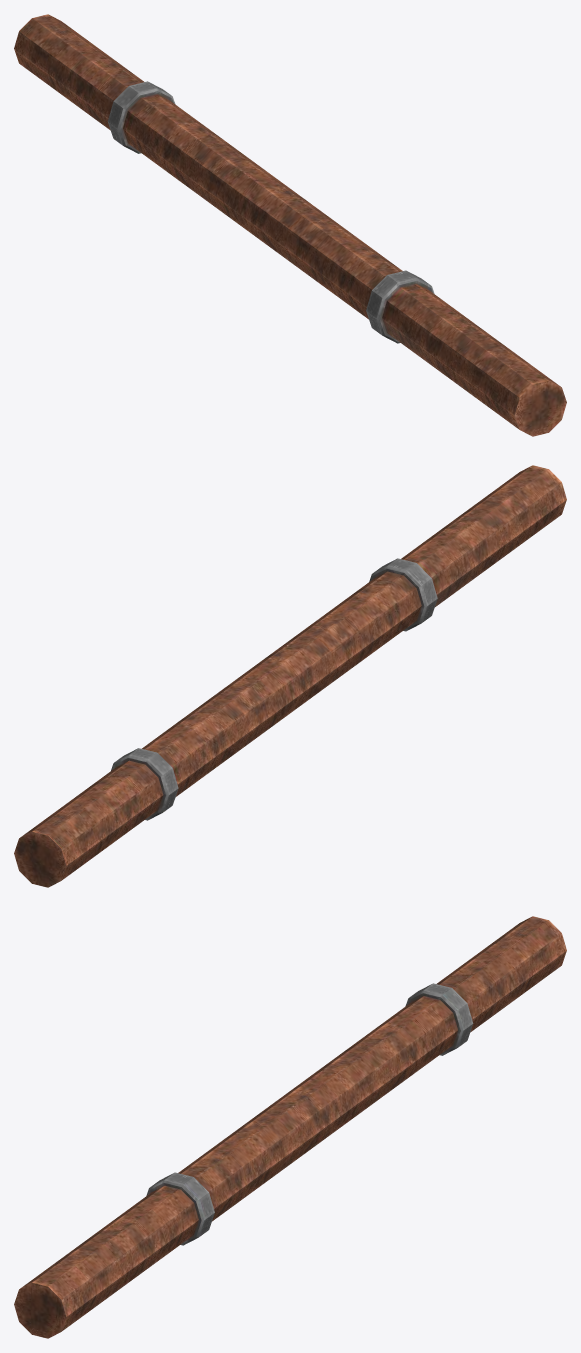
File: Cano1_Final.fbx
3 views of the same model, one above another, from view 1: azimuth 30°, elevation 25°; view 2: azimuth 150°, elevation 25°; view 3: azimuth 330°, elevation 25° (orthographic).
Visible parts, largest first — view 1: pCylinder9; view 2: pCylinder9; view 3: pCylinder9.
Part boxes in pixels (x1,y1,x2,y2): pCylinder9: (14,14,566,436); pCylinder9: (14,465,566,887); pCylinder9: (14,916,566,1338).
Size of the model in its own units: 0.7717 by 0.734 by 10.95.
1 material, 1 textured.
